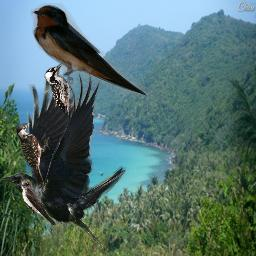Crow: (0, 71, 126, 253)
Swallow: (30, 3, 149, 98), (21, 179, 57, 226)
Woodpecker: (16, 123, 50, 190), (44, 63, 70, 115)
